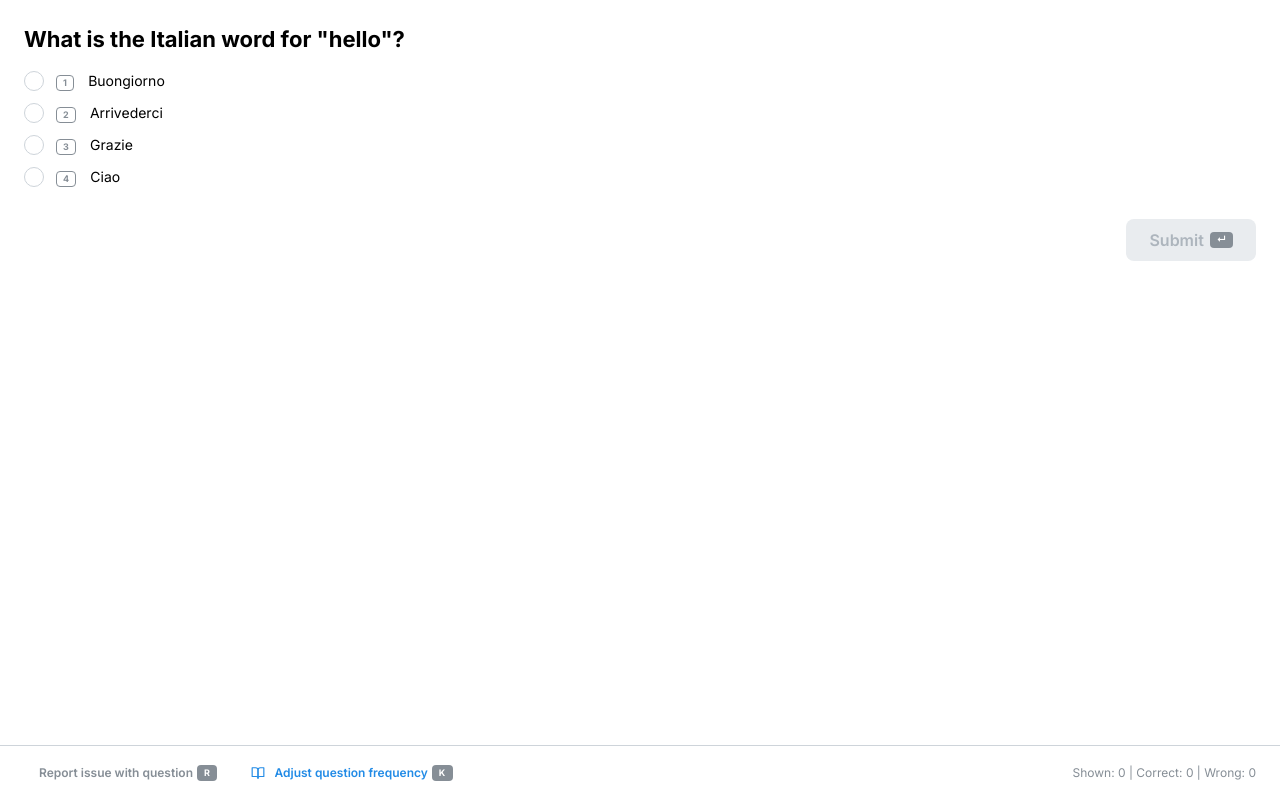
Test: QuestionCard › Shuffling functionality › correctly handles selection of option 3 (index 2) without off-by-one error
Click the radio button labelled "3 Grazie": (34, 145) top-left (24, 135), bottom-right (44, 155)
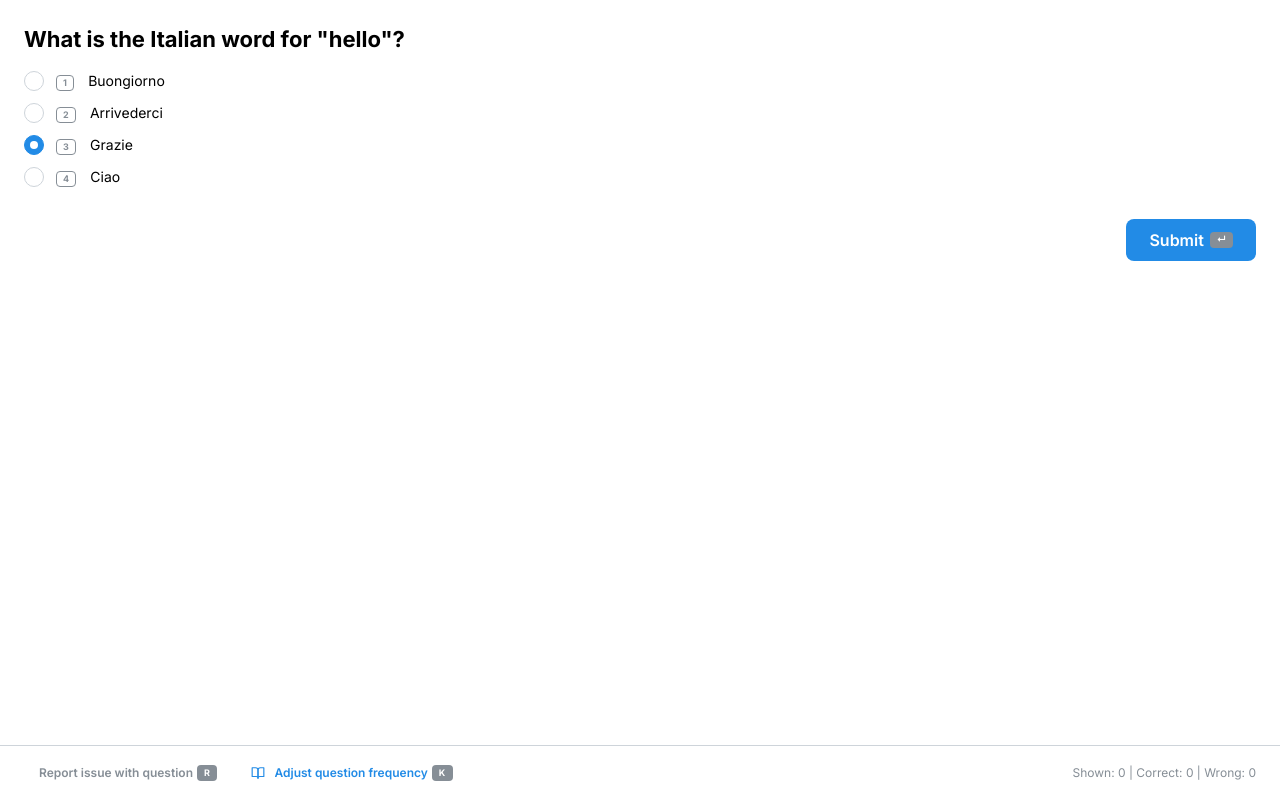
# Submit the answer
Click the button "Submit ↵": (1191, 240) top-left (1126, 219), bottom-right (1256, 261)
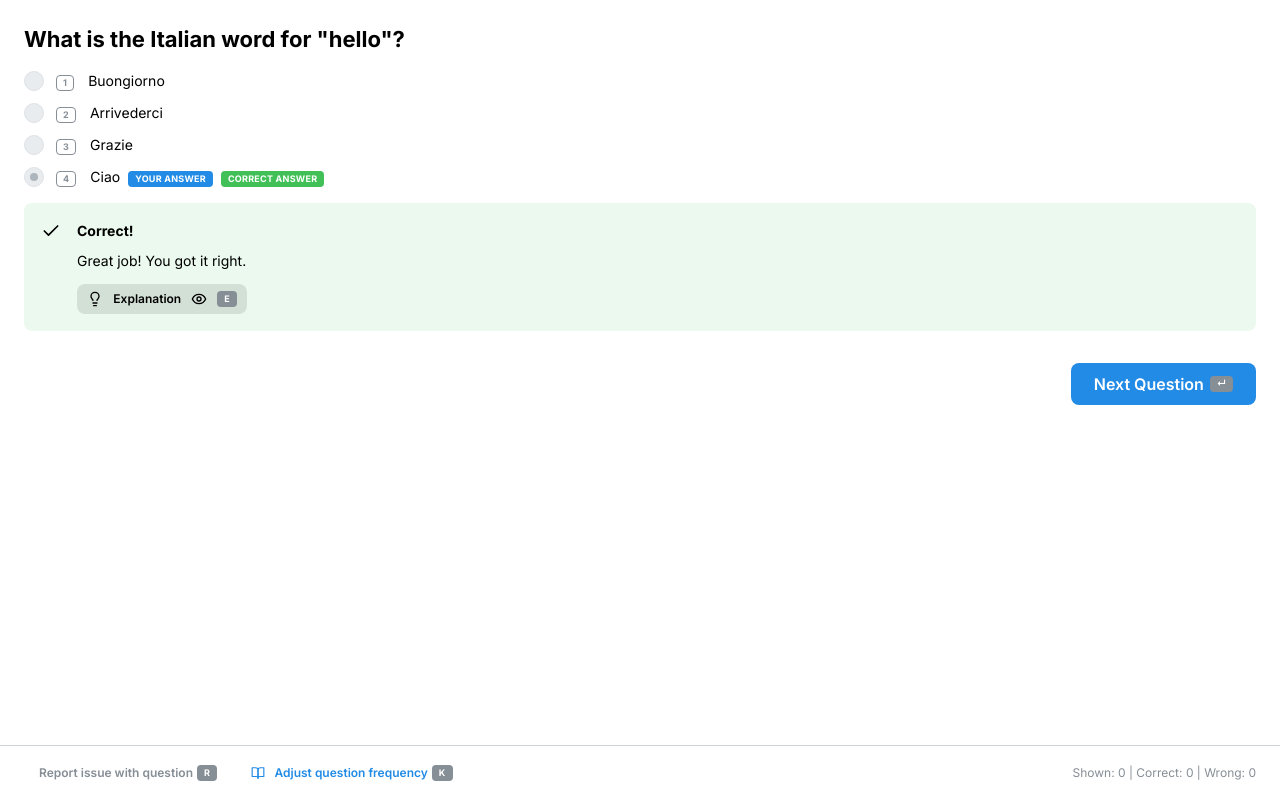
Check: the text "Correct answer" is shown, box top-left (228, 172), bottom-right (317, 186)
